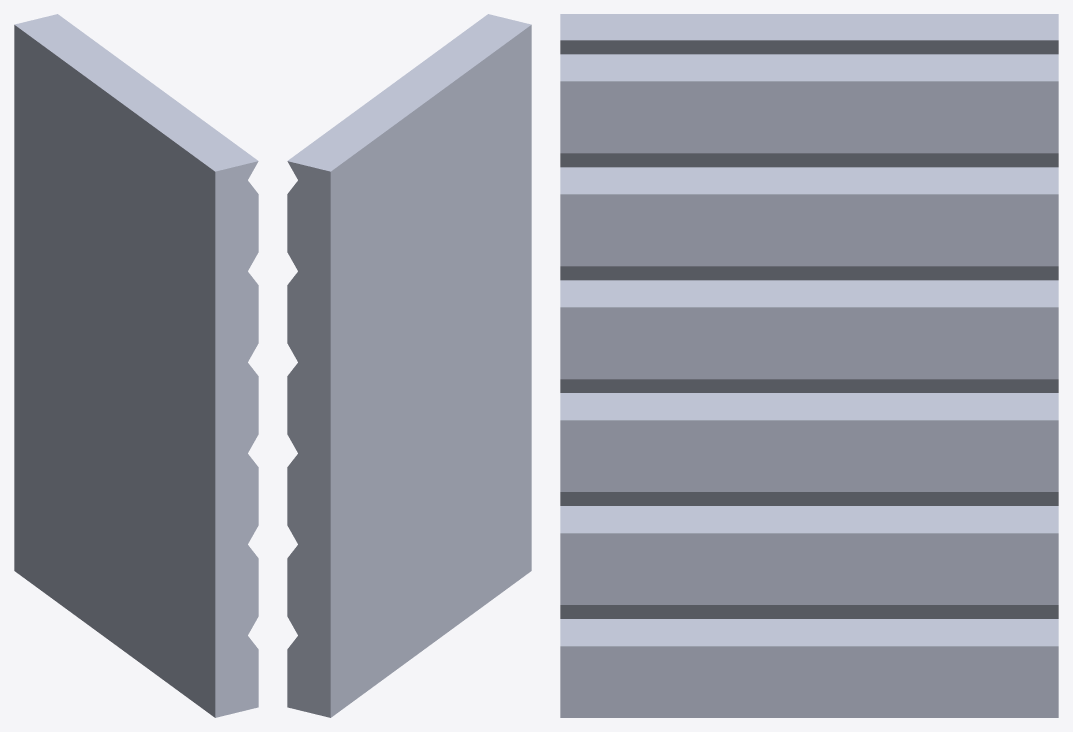
The model's file is spaceInterior_069.obj.
3 views of the same model, side by side, from view 1: azimuth 30°, elevation 25°; view 2: azimuth 150°, elevation 25°; view 3: azimuth 270°, elevation 25° (orthographic). The views are drawn at different scales.
Visible parts, largest first — view 1: Mesh1 Group1 Model; view 2: Mesh1 Group1 Model; view 3: Mesh1 Group1 Model.
Boxes of the visible parts, <box> form: Mesh1 Group1 Model: <box>14,14,258,717</box>; Mesh1 Group1 Model: <box>287,14,531,717</box>; Mesh1 Group1 Model: <box>560,14,1058,717</box>.
Bounding box in the file's own units: 0.0625 × 0.75 × 0.5.
